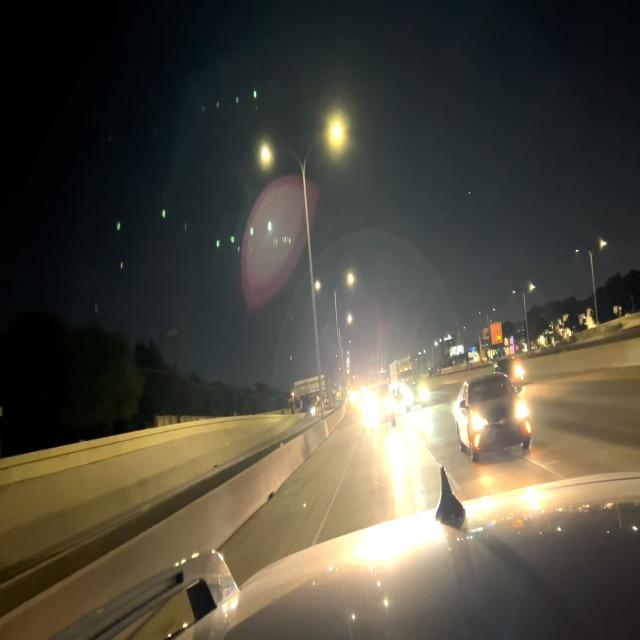back-of-sign: (293, 374, 326, 400)
